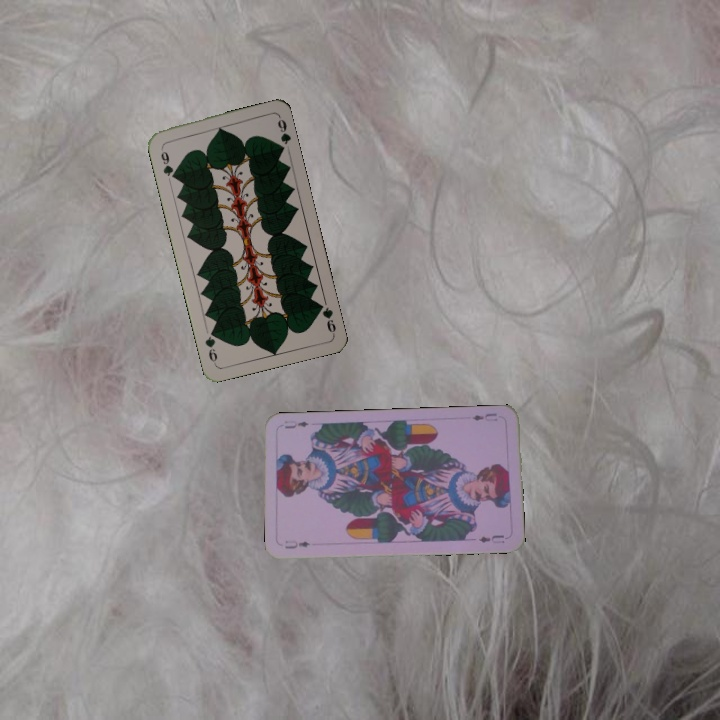EU: (468, 409, 500, 424), (281, 536, 312, 551)
G9: (314, 299, 339, 337), (157, 143, 178, 181)
